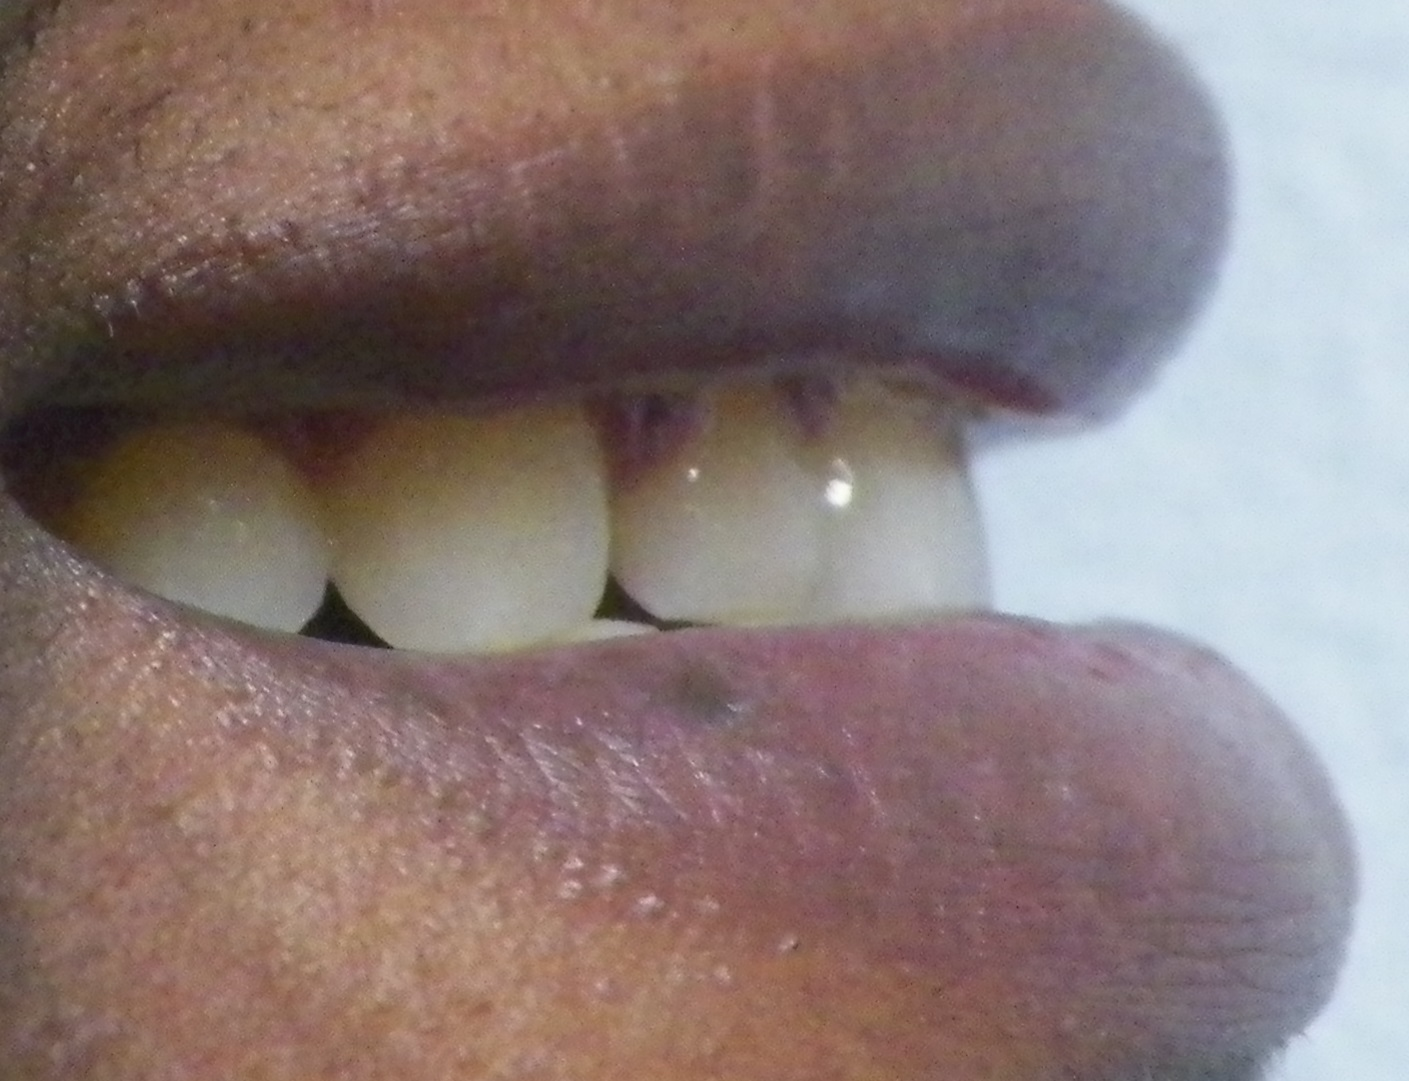boca: (72, 396, 998, 647)
